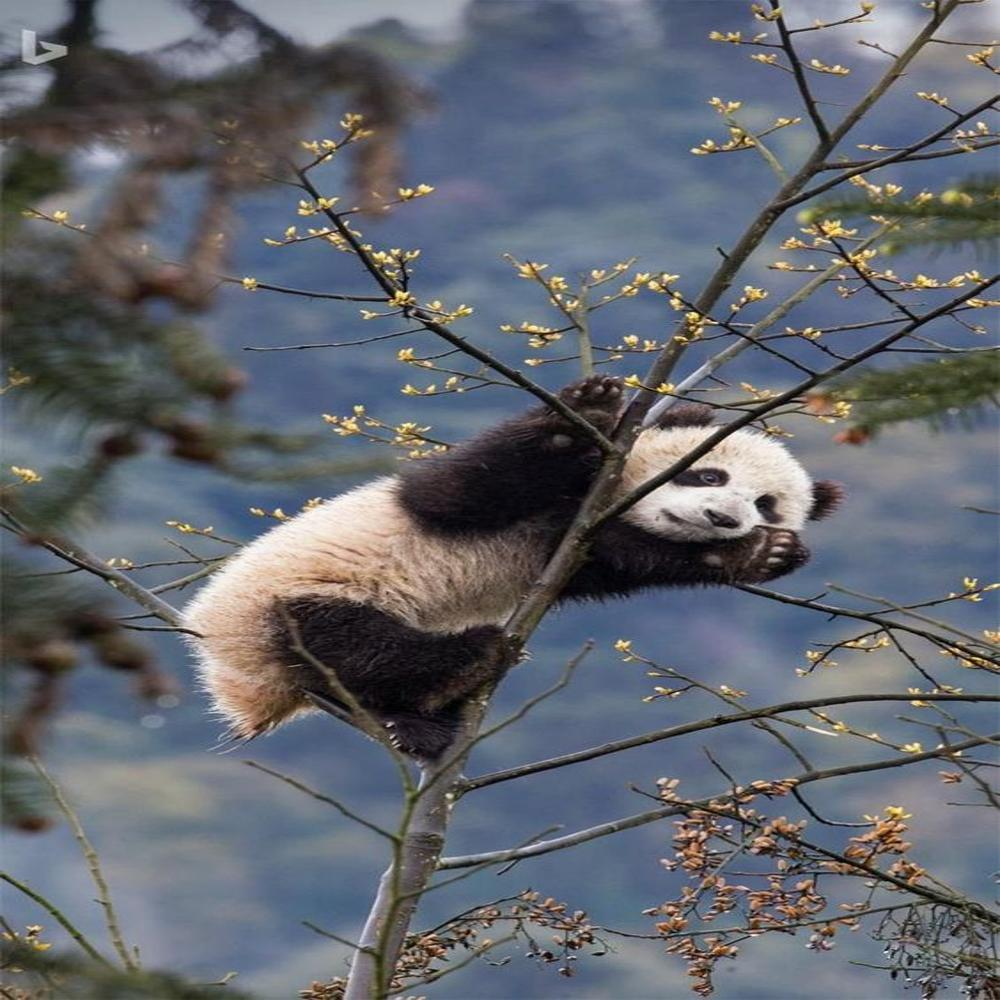panda: (184, 369, 854, 736)
